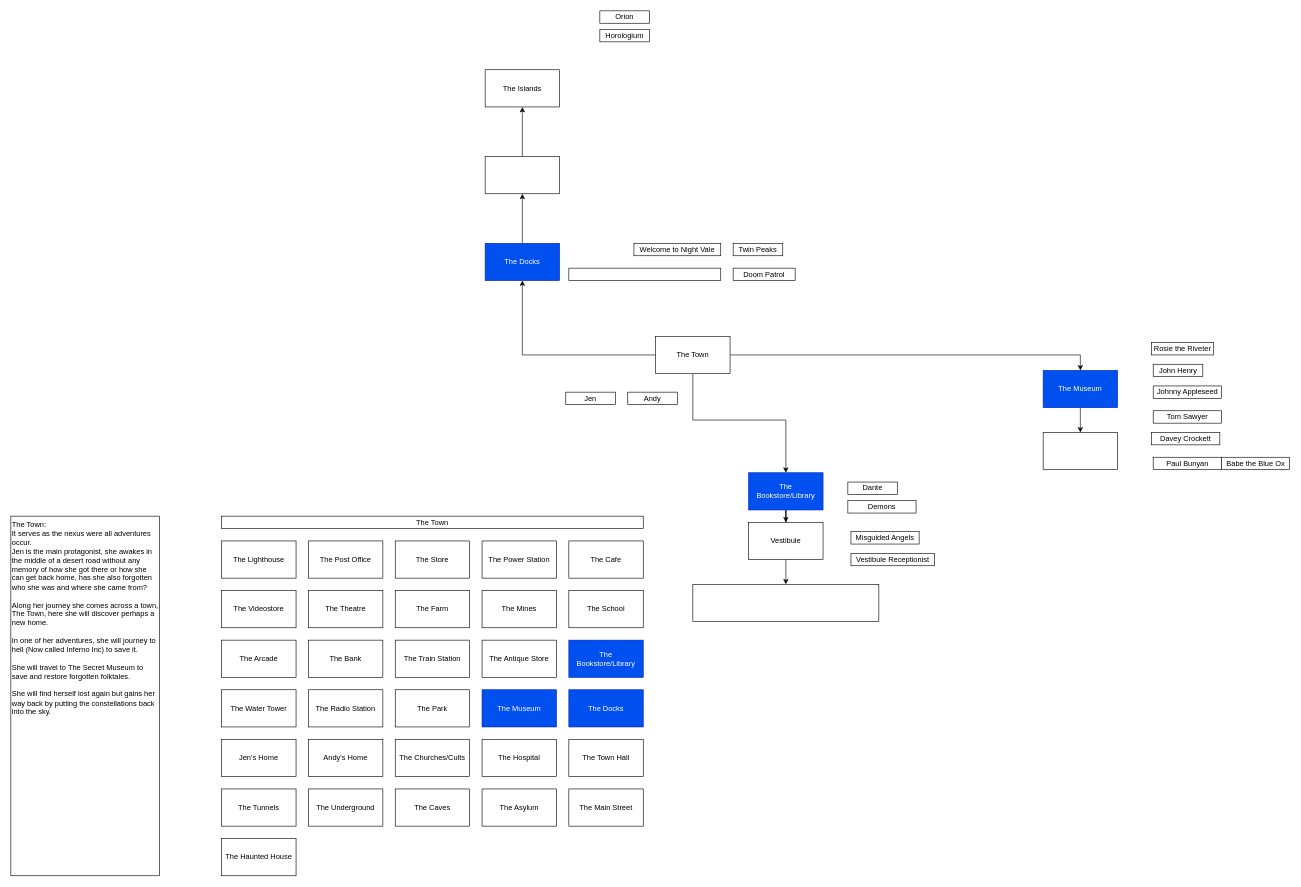
This 1301x887 diagram has some shape labels left out. Each missing label, with the centre of its shape:
Alan Wake (Bright Falls and Night Springs): (644,274)
The Boat: (522,175)
The Inferno (formerly Hell for re-branding reasons): (785,603)
The Secret Museum: (1080,451)
